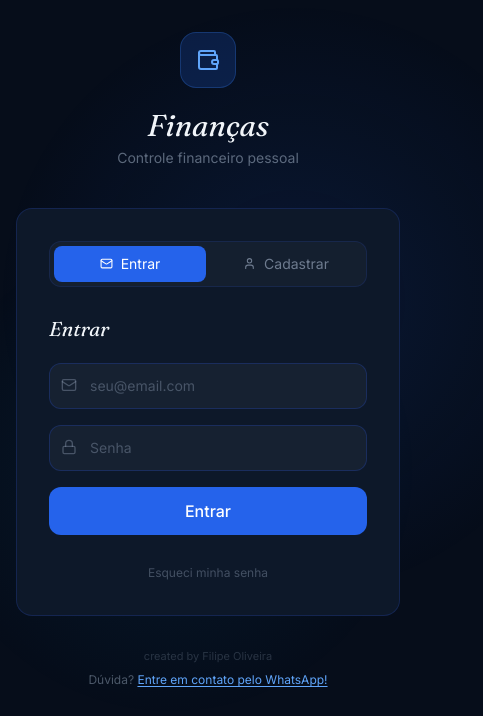
Test: Auth › cadastro com token › token inválido ou já usado: não cria conta
The width and height of the screenshot is (483, 716).
Click the button "Cadastrar": (286, 264) [210,246,362,282]
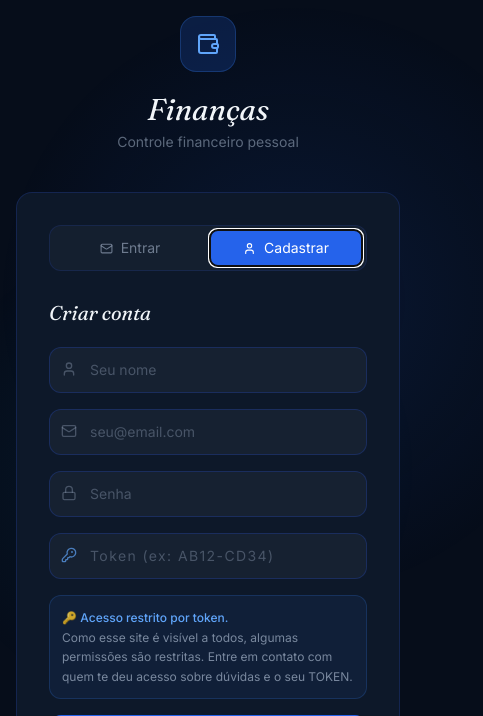
In the field with placeholder "Seu nome": (208, 370) [49,347,367,393], type "Teste"
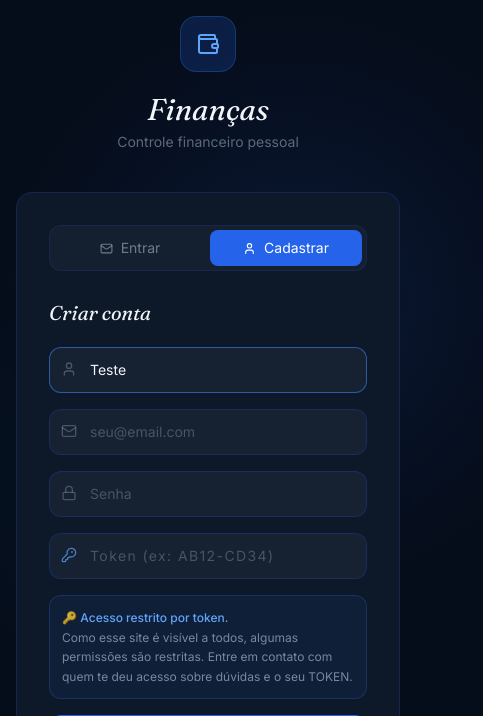
In the field with placeholder "seu@email.com": (208, 432) [49,409,367,455], type "teste@example.com"
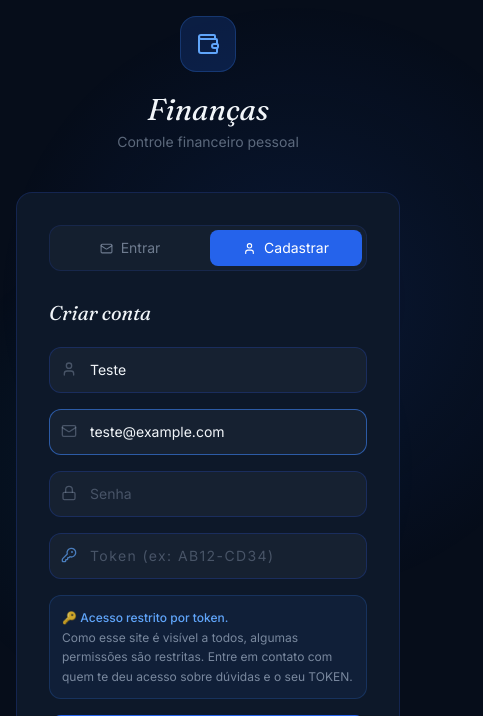
In the password field with placeholder "Senha": (208, 494) [49,471,367,517], type "senha-teste"
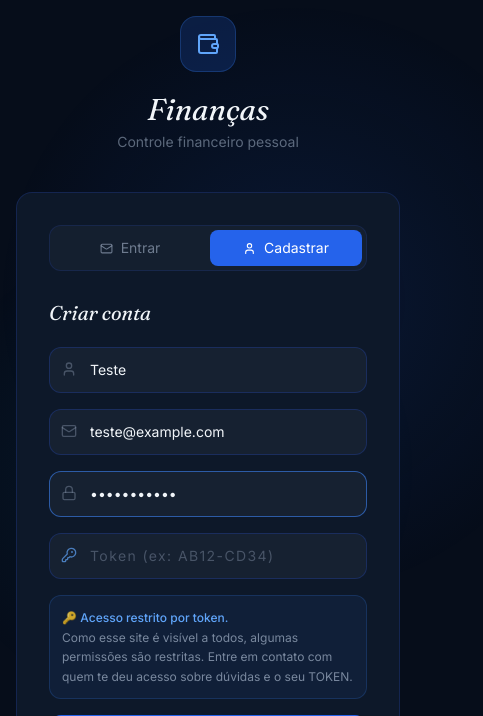
In the field with placeholder "Token (ex: AB12-CD34)": (208, 556) [49,533,367,579], type "ab12-cd34"
(page scrolled)
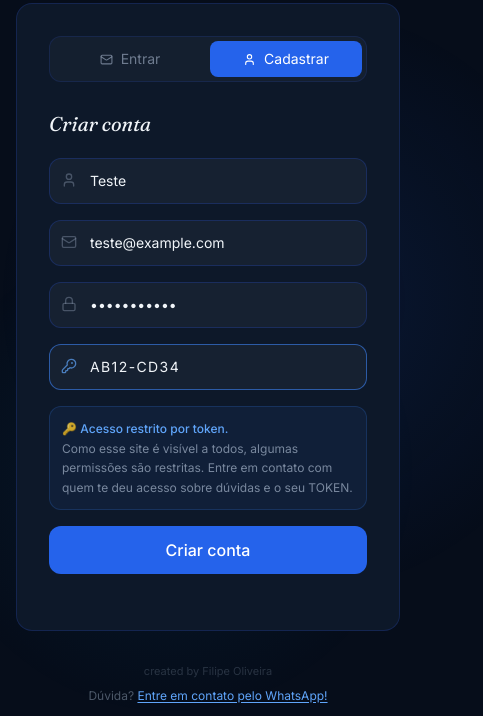
Click the button "Criar conta": (208, 550) [49,526,367,574]
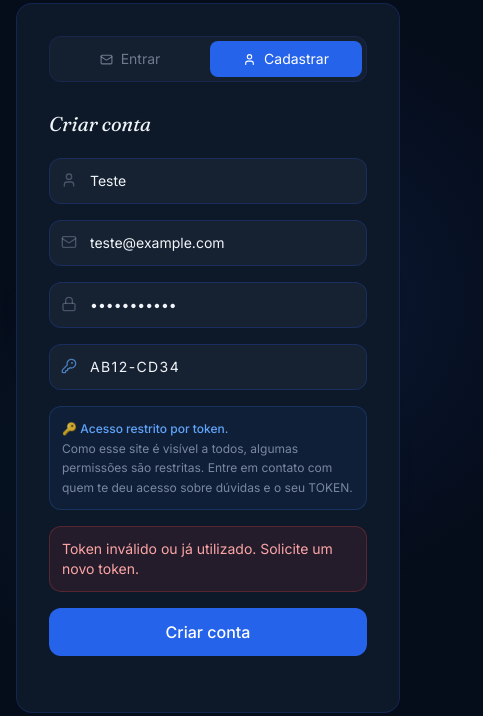
Check: the text "Token inválido ou já utilizado. Solicite um novo token." is shown, box [49,526,367,592]
